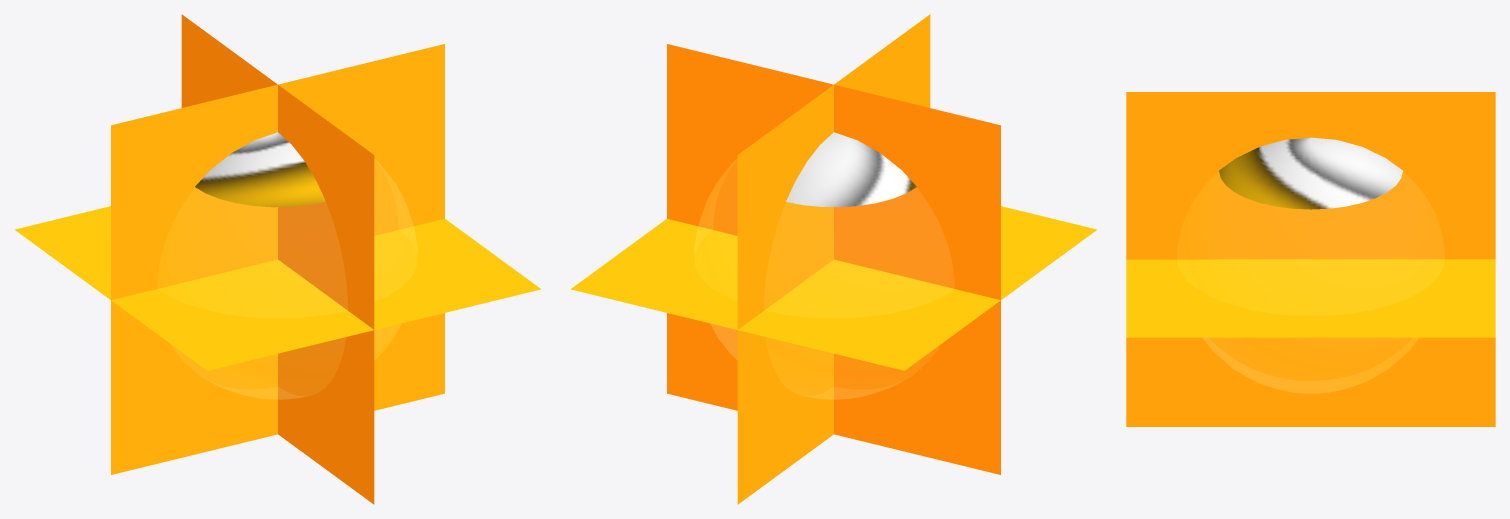
File: laserup.FBX
The picture shows the model from 3 angles, left to right: view 1: azimuth 30°, elevation 25°; view 2: azimuth 150°, elevation 25°; view 3: azimuth 270°, elevation 25°; orthographic projection. The views are drawn at different scales.
Parts seen in each view (by area): view 1: Plane01, Plane02, Plane03, Sphere01, Sphere03; view 2: Plane01, Plane02, Plane03, Sphere01, Sphere03; view 3: Plane02, Plane03, Sphere01, Sphere03.
Part boxes in pixels (x1,y1,x2,y2): Plane01: (111, 44, 444, 474); Plane02: (181, 14, 374, 504); Plane03: (15, 206, 540, 370); Sphere01: (195, 132, 325, 207); Sphere03: (212, 159, 416, 398); Plane01: (667, 44, 1000, 474); Plane02: (737, 14, 930, 504); Plane03: (571, 206, 1096, 370); Sphere01: (786, 132, 916, 207); Sphere03: (695, 159, 899, 398); Plane02: (1126, 92, 1495, 426); Plane03: (1126, 259, 1495, 337); Sphere01: (1219, 137, 1402, 209); Sphere03: (1203, 338, 1418, 392).
Size of the model in its own units: 70.91 by 70.91 by 70.91.
Materials: 3 (1 with a texture image).
